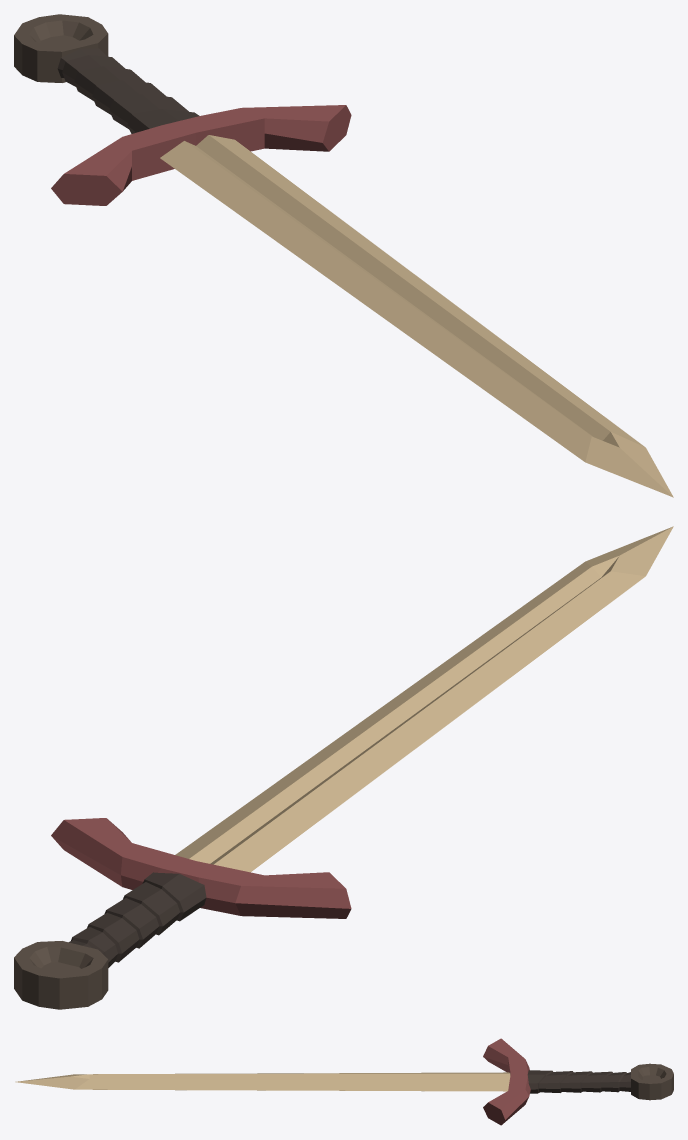
The model's file is Sword.fbx.
3 views of the same model, one above another, from view 1: azimuth 30°, elevation 25°; view 2: azimuth 150°, elevation 25°; view 3: azimuth 270°, elevation 25° (orthographic). The views are drawn at different scales.
Visible parts, largest first — view 1: sword; view 2: sword; view 3: sword.
Part boxes in pixels (bbox=[...]): sword: bbox=[14, 14, 673, 497]; sword: bbox=[14, 526, 673, 1009]; sword: bbox=[15, 1038, 673, 1125].
Size of the model in its own units: 28.09 by 2.79 by 103.
